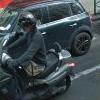Motorcycle: (1, 32, 79, 99)
